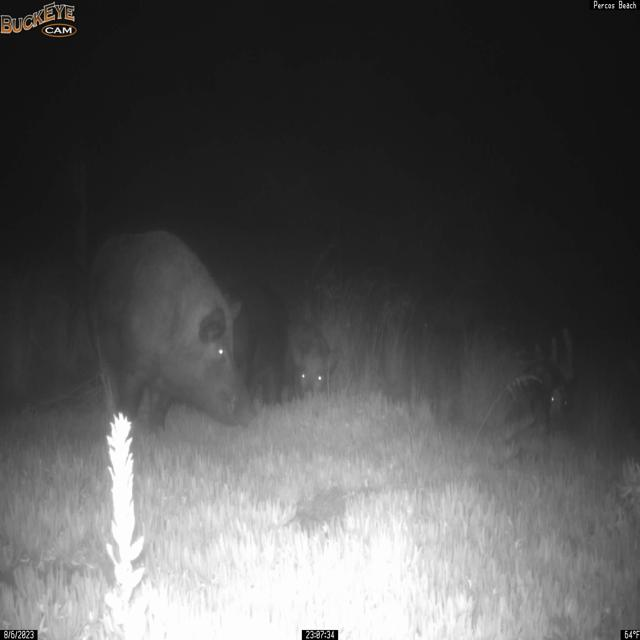pig: (84, 228, 258, 437)
